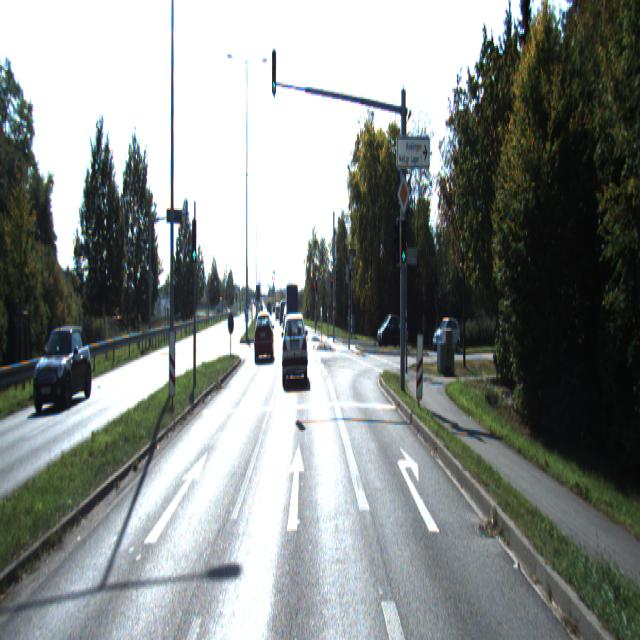Car: (35, 321, 92, 408), (282, 316, 308, 386), (253, 312, 276, 363), (286, 281, 299, 339)
